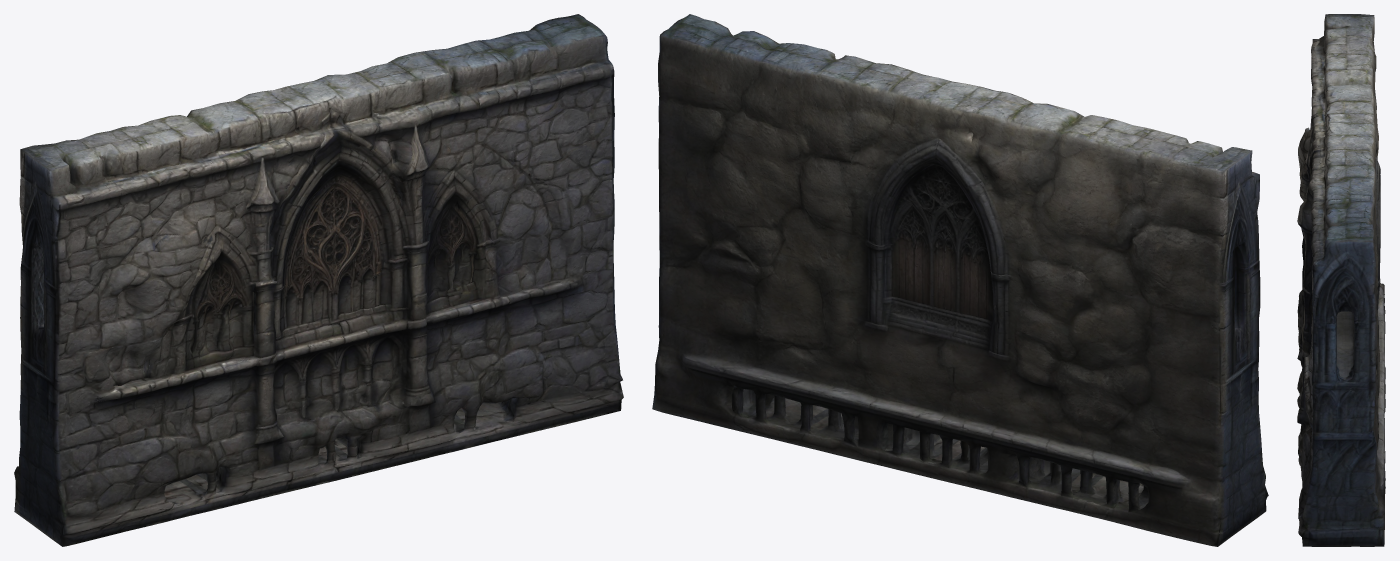
The model's file is Meshy_AI_Heavily_Detailed_Goth_0221052419_texture.glb.
The picture shows the model from 3 angles, left to right: view 1: azimuth 30°, elevation 25°; view 2: azimuth 150°, elevation 25°; view 3: azimuth 270°, elevation 25°; orthographic projection. The views are drawn at different scales.
Bounding box in the file's own units: 2 × 1.26 × 0.3292.
Materials: 1 (1 with a texture image).
